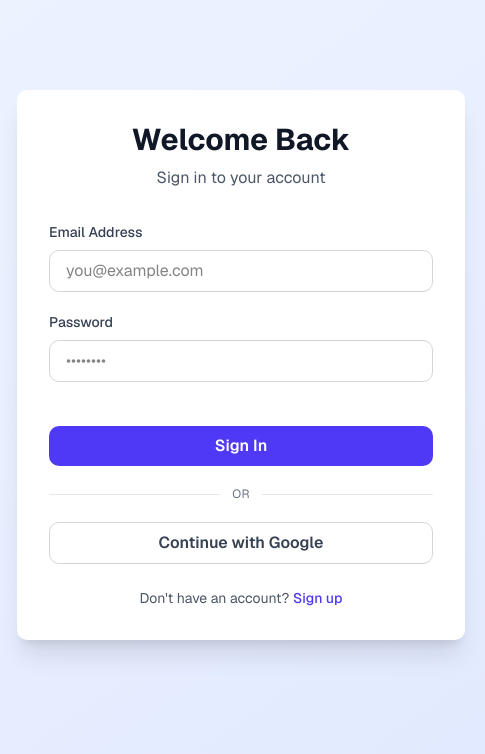
it: Login Component › Form Submission › shows loading state while submitting
In the field with test id "email-input": (241, 271) x1=49 y1=250 x2=433 y2=292, type "test@example.com"
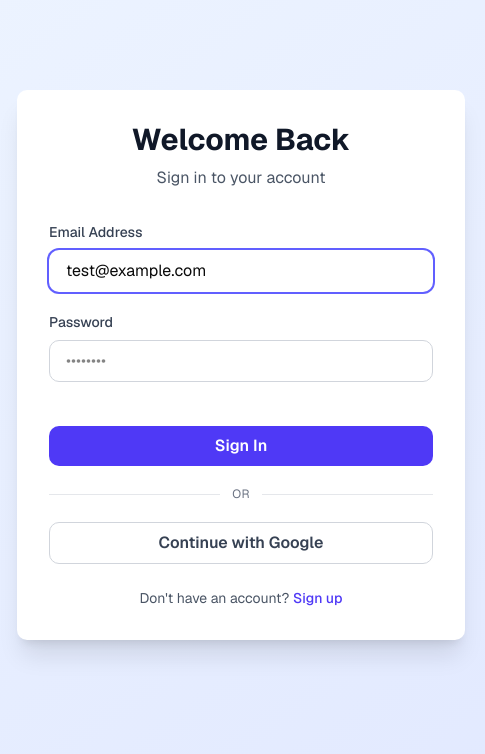
In the password field with test id "password-input": (241, 361) x1=49 y1=340 x2=433 y2=382, type "password123"
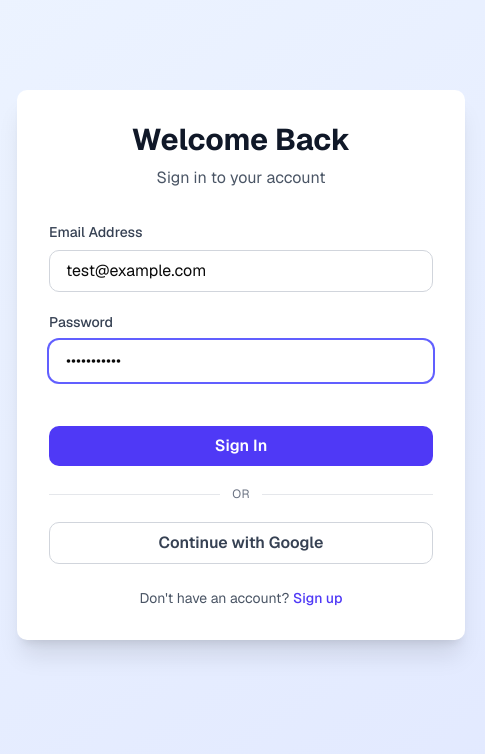
Click the button with test id "submit-button": (241, 446) x1=49 y1=426 x2=433 y2=466
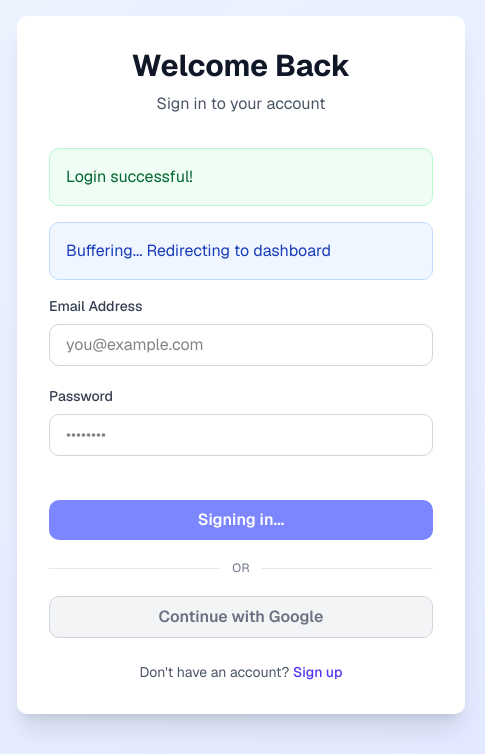
Expected: the button with test id "submit-button" reads "Signing in...", x1=49 y1=500 x2=433 y2=540
